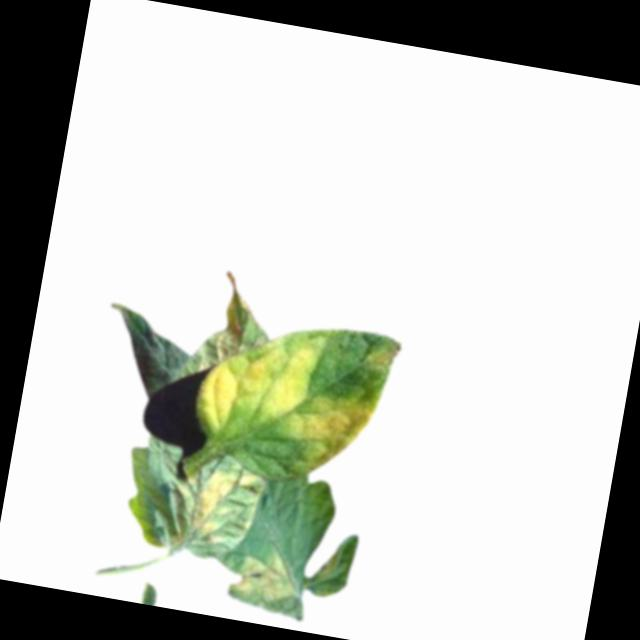Leaf_Mold: (184, 314, 399, 488), (169, 452, 265, 558), (233, 547, 301, 608)
